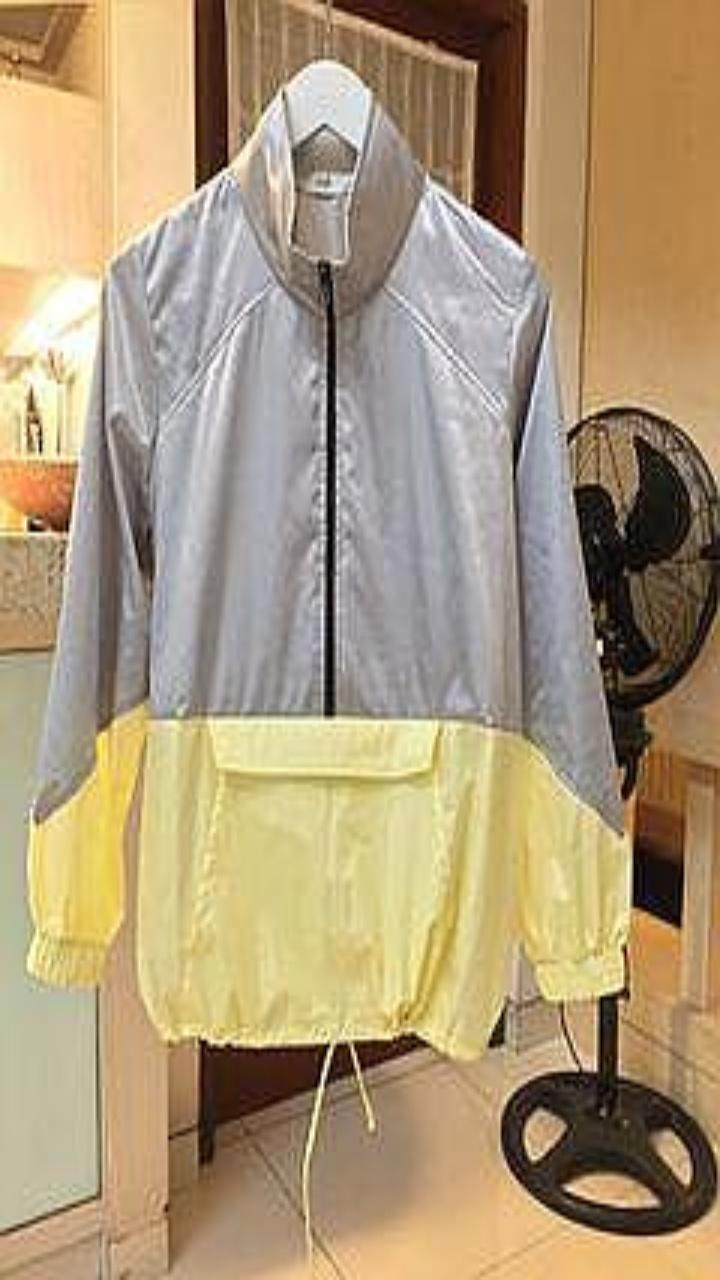Sports_Jacket: (27, 90, 629, 1057)
